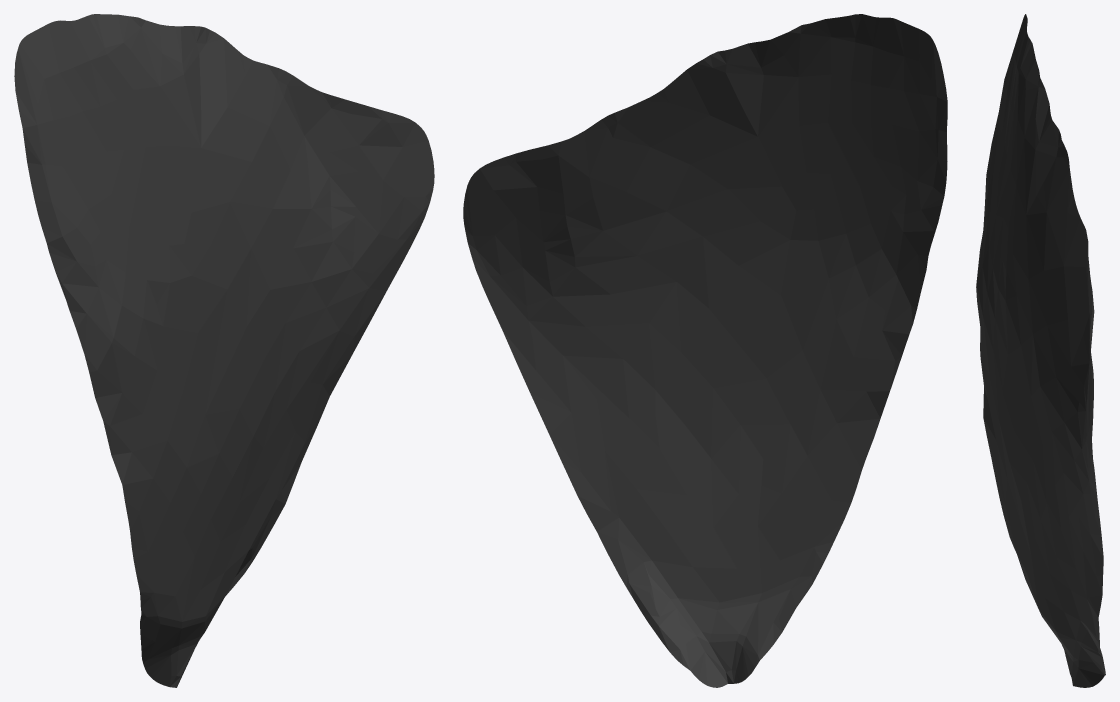
File: Anconeus.glb
3 renders of one model, left to right at view 1: azimuth 30°, elevation 25°; view 2: azimuth 150°, elevation 25°; view 3: azimuth 270°, elevation 25°, orthographic. The views are drawn at different scales.
Parts seen in each view (by area): view 1: Anconeus; view 2: Anconeus; view 3: Anconeus.
Boxes of the visible parts, bbox=[...] form: Anconeus: bbox=[14, 14, 434, 687]; Anconeus: bbox=[463, 14, 947, 687]; Anconeus: bbox=[976, 14, 1105, 687].
Size of the model in its own units: 0.0454 by 0.0676 by 0.0131.
Materials: 1 (1 with a texture image).
